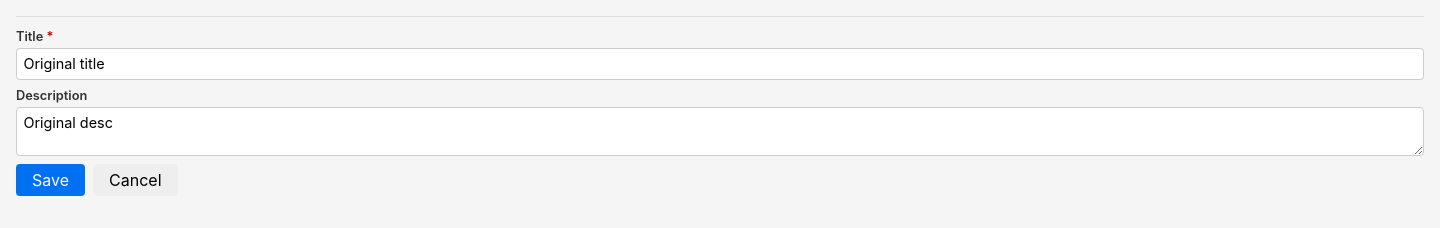
Test case: TodoEditComponent › should show server error message when update fails
Click the submit button at (50, 180), box [16,164,85,196]
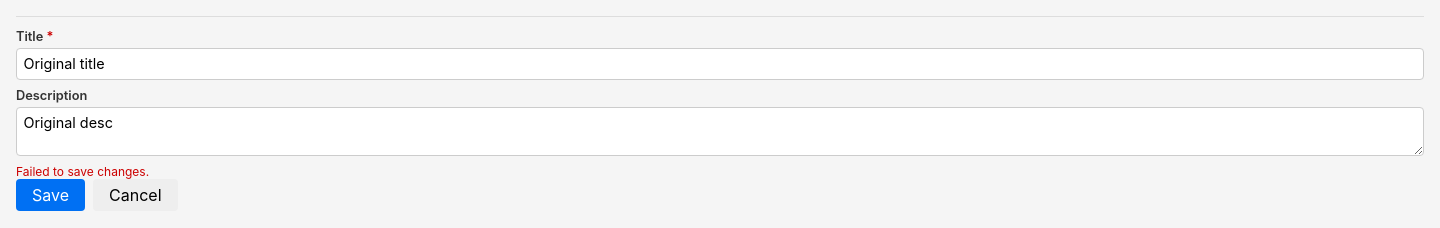
expect the text "Failed to save changes." is shown: met, box [16,164,149,179]
